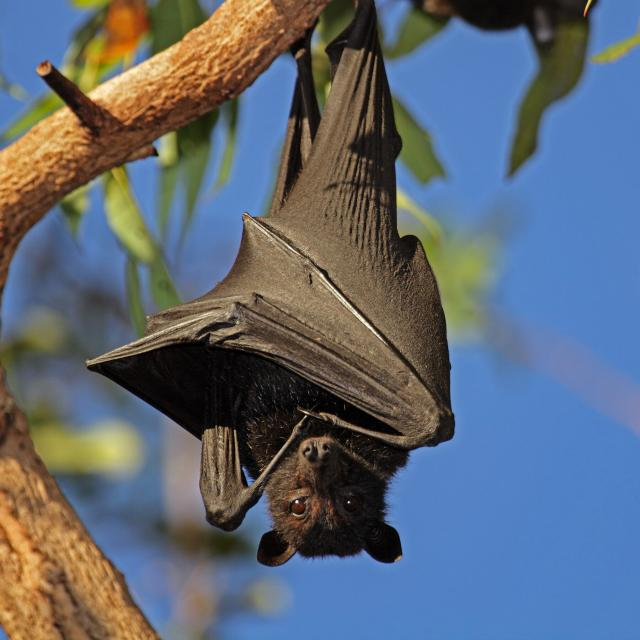Bat: (79, 0, 465, 572)
